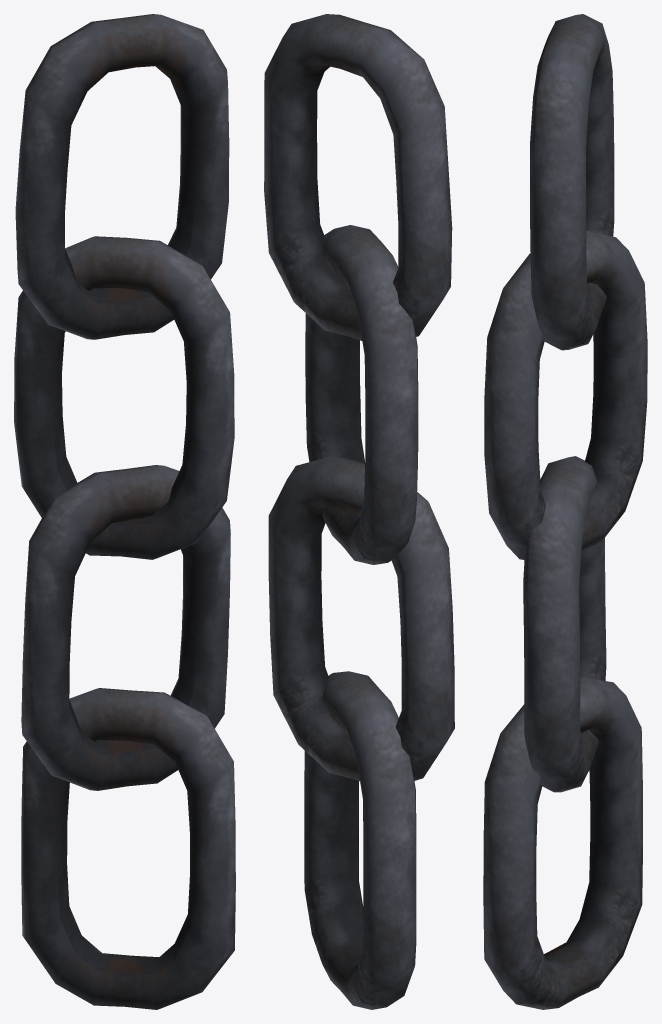
File: Chains_Fixed_Scaled.fbx
The picture shows the model from 3 angles, left to right: view 1: azimuth 30°, elevation 25°; view 2: azimuth 150°, elevation 25°; view 3: azimuth 270°, elevation 25°; orthographic projection.
Parts seen in each view (by area): view 1: ChainLink_4, ChainLink_1, ChainLink_2, ChainLink_3; view 2: ChainLink_4, ChainLink_2, ChainLink_1, ChainLink_3; view 3: ChainLink_1, ChainLink_3, ChainLink_4, ChainLink_2.
Part boxes in pixels (<box>): ChainLink_4: <box>15,14,229,339</box>; ChainLink_1: <box>21,688,235,1009</box>; ChainLink_2: <box>21,465,230,790</box>; ChainLink_3: <box>14,236,234,559</box>; ChainLink_4: <box>264,14,452,340</box>; ChainLink_2: <box>268,456,454,781</box>; ChainLink_1: <box>304,671,416,1009</box>; ChainLink_3: <box>305,225,418,564</box>; ChainLink_1: <box>483,677,642,1009</box>; ChainLink_3: <box>484,230,647,560</box>; ChainLink_4: <box>530,14,614,350</box>; ChainLink_2: <box>523,456,606,792</box>.
Bounding box in the file's own units: 3.25 × 15.9 × 2.43.
